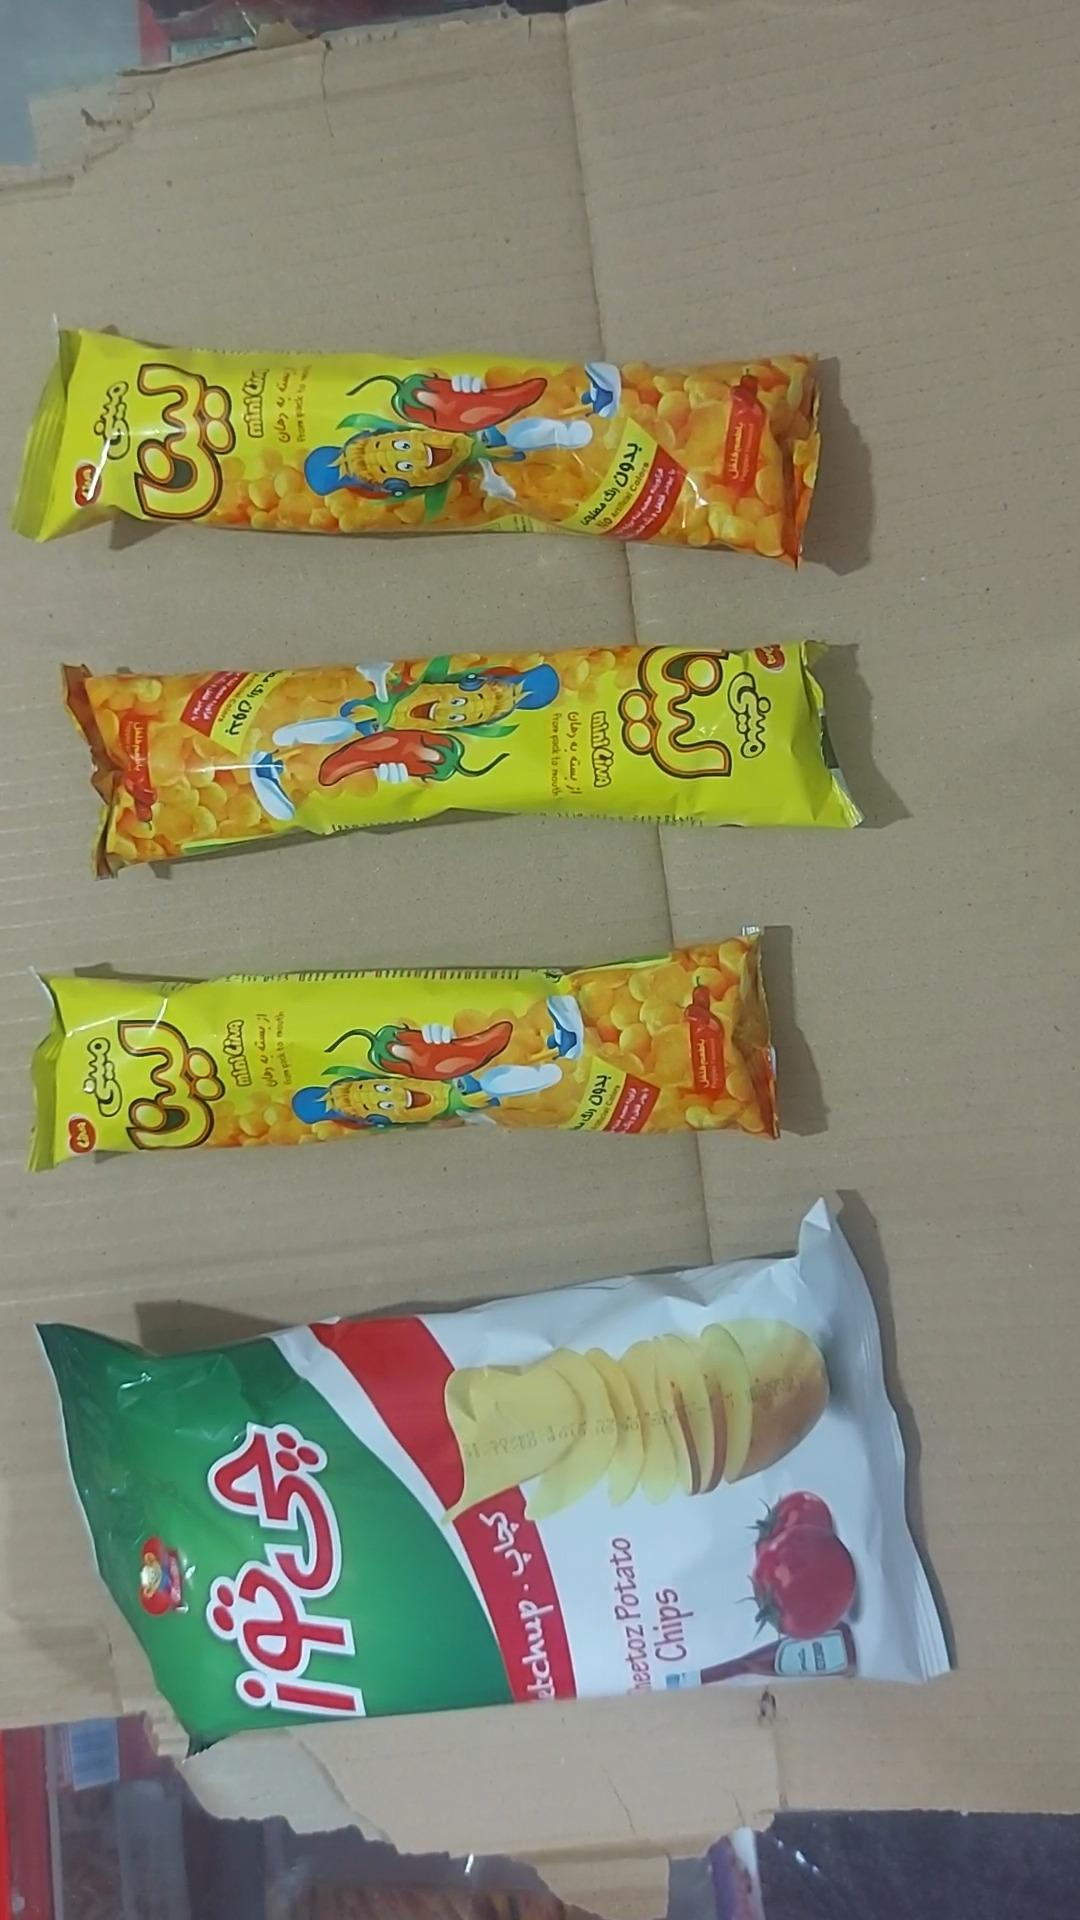Cheetoz ketchup chips: (34, 1203, 957, 1753)
Mini Lina: (11, 328, 822, 568), (61, 641, 864, 880), (25, 926, 781, 1174)
